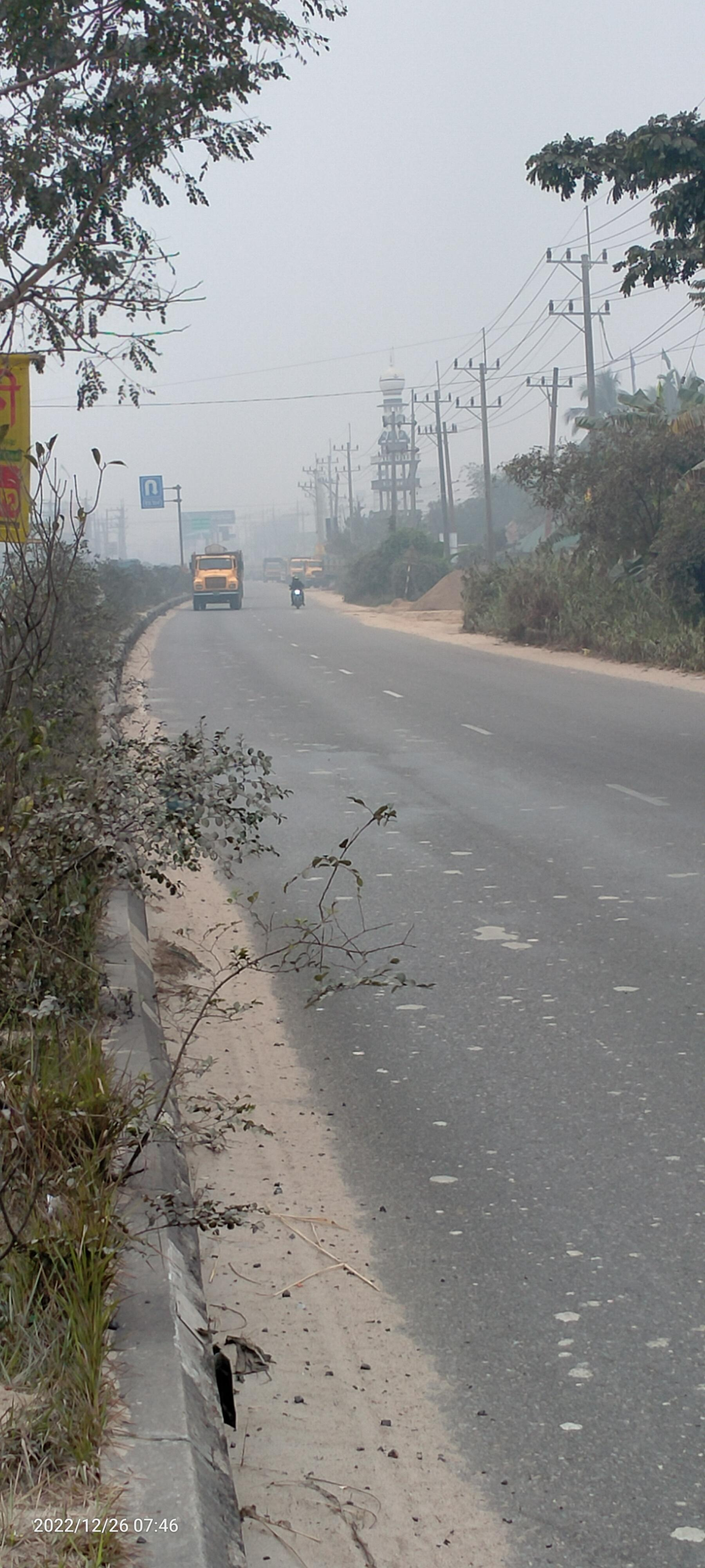Bike: (286, 575, 315, 614)
Truck: (187, 539, 256, 613)
